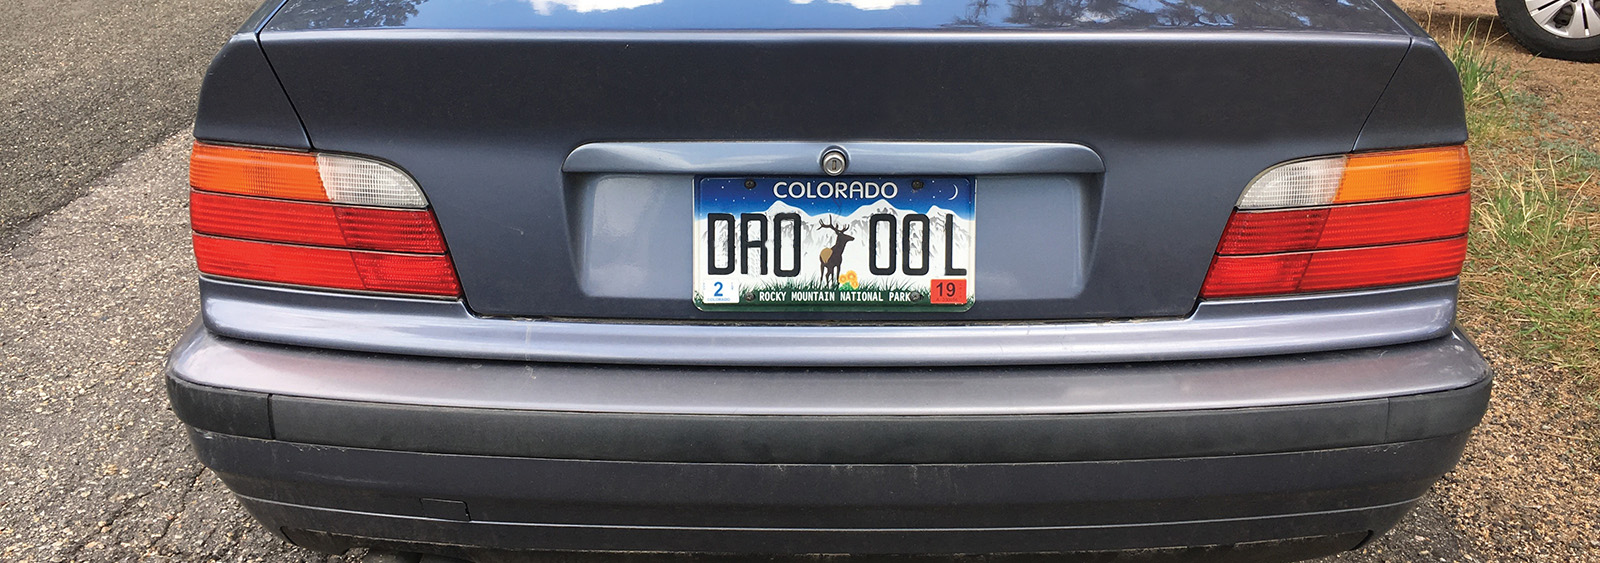license plate: (688, 166, 980, 313)
